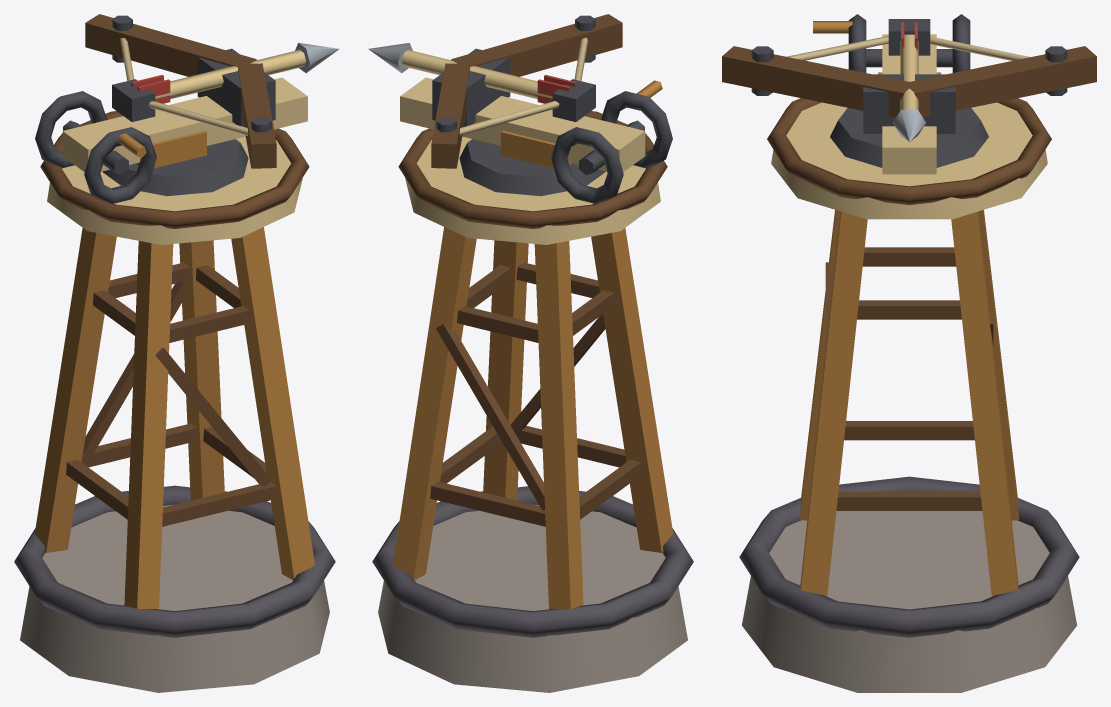
The model's file is tower_ballista.glb.
3 views of the same model, side by side, from view 1: azimuth 30°, elevation 25°; view 2: azimuth 150°, elevation 25°; view 3: azimuth 270°, elevation 25° (orthographic). The views are drawn at different scales.
Parts seen in each view (by area): view 1: base, leg_wn, base_rim, leg_en, leg_ws, deck, leg_es, deck_rim, stock, bow_arm_r, turret_ring, bow_arm_l (+19 smaller); view 2: base, leg_ws, base_rim, leg_es, leg_wn, deck, leg_en, stock, deck_rim, bow_arm_l, turret_ring, brace_b (+19 smaller); view 3: base, base_rim, deck, leg_en, leg_es, deck_rim, bow_arm_l, bow_arm_r, turret_ring, stock, ring_e_0.21, bow_mount (+13 smaller).
Part boxes in pixels (x1=…): base: x1=20, y1=505, x2=329, y2=692; leg_wn: x1=124, y1=241, x2=173, y2=609; base_rim: x1=14, y1=485, x2=335, y2=637; leg_en: x1=231, y1=227, x2=314, y2=579; leg_ws: x1=34, y1=228, x2=116, y2=552; deck: x1=47, y1=136, x2=302, y2=244; leg_es: x1=179, y1=240, x2=224, y2=500; deck_rim: x1=40, y1=111, x2=309, y2=228; stock: x1=62, y1=77, x2=307, y2=172; bow_arm_r: x1=85, y1=14, x2=256, y2=76; turret_ring: x1=102, y1=139, x2=248, y2=196; bow_arm_l: x1=237, y1=63, x2=276, y2=168; base: x1=378, y1=505, x2=687, y2=692; leg_ws: x1=534, y1=241, x2=583, y2=609; base_rim: x1=372, y1=486, x2=693, y2=637; leg_es: x1=393, y1=227, x2=476, y2=579; leg_wn: x1=591, y1=228, x2=673, y2=552; deck: x1=405, y1=136, x2=660, y2=244; leg_en: x1=483, y1=240, x2=528, y2=500; stock: x1=400, y1=77, x2=645, y2=172; deck_rim: x1=398, y1=111, x2=667, y2=228; bow_arm_l: x1=451, y1=14, x2=622, y2=76; turret_ring: x1=459, y1=139, x2=605, y2=196; brace_b: x1=436, y1=323, x2=544, y2=510; base: x1=742, y1=511, x2=1076, y2=692; base_rim: x1=739, y1=476, x2=1079, y2=637; deck: x1=771, y1=102, x2=1047, y2=219; leg_en: x1=800, y1=211, x2=867, y2=596; leg_es: x1=951, y1=211, x2=1018, y2=596; deck_rim: x1=767, y1=98, x2=1051, y2=204; bow_arm_l: x1=722, y1=46, x2=914, y2=117; bow_arm_r: x1=905, y1=46, x2=1096, y2=117; turret_ring: x1=830, y1=108, x2=988, y2=167; stock: x1=882, y1=34, x2=936, y2=174; ring_e_0.21: x1=836, y1=491, x2=982, y2=510; bow_mount: x1=863, y1=74, x2=955, y2=133.
Bounding box in the file's own units: 0.4435 × 0.7685 × 0.4469.
